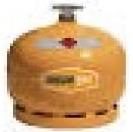cylinder: (1, 1, 133, 132)
